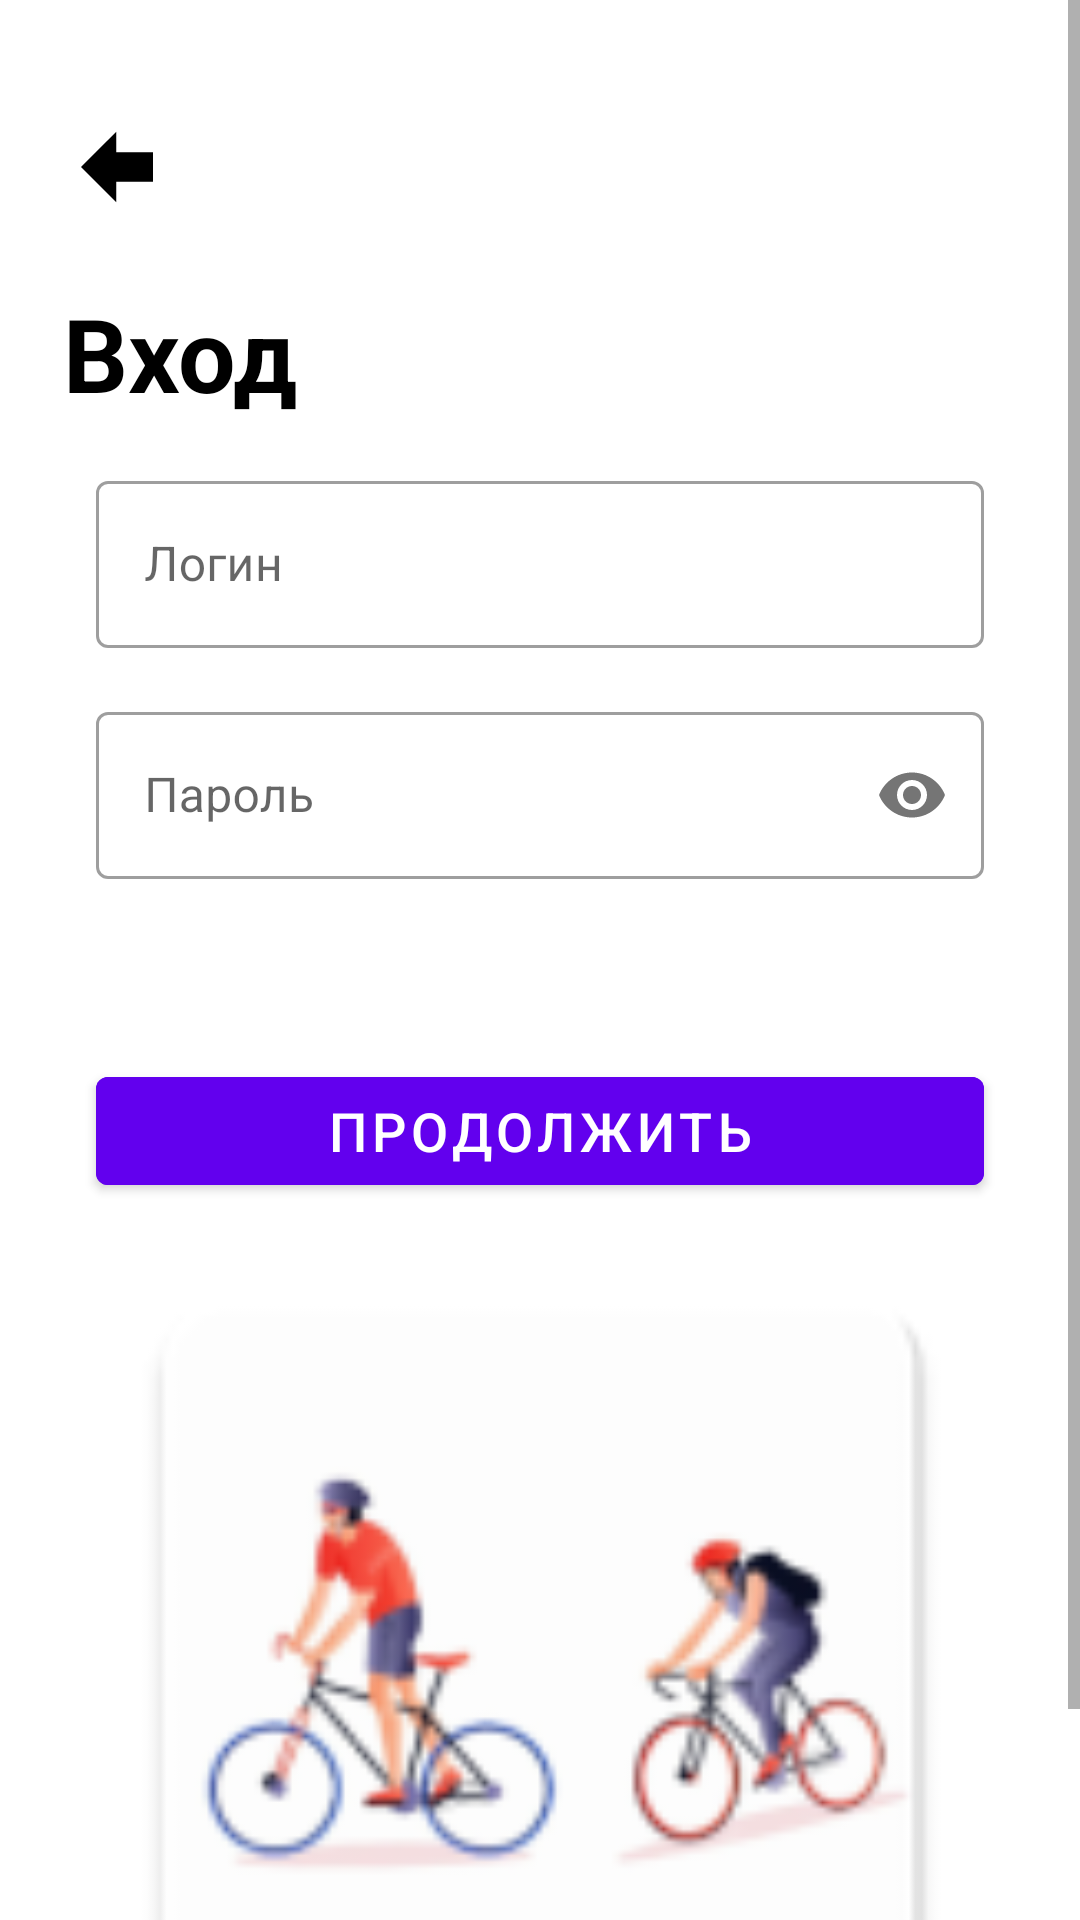

Where to tap for icons on this 1080×1920 app screen, as (x,y):
back arrow: (117,167)
